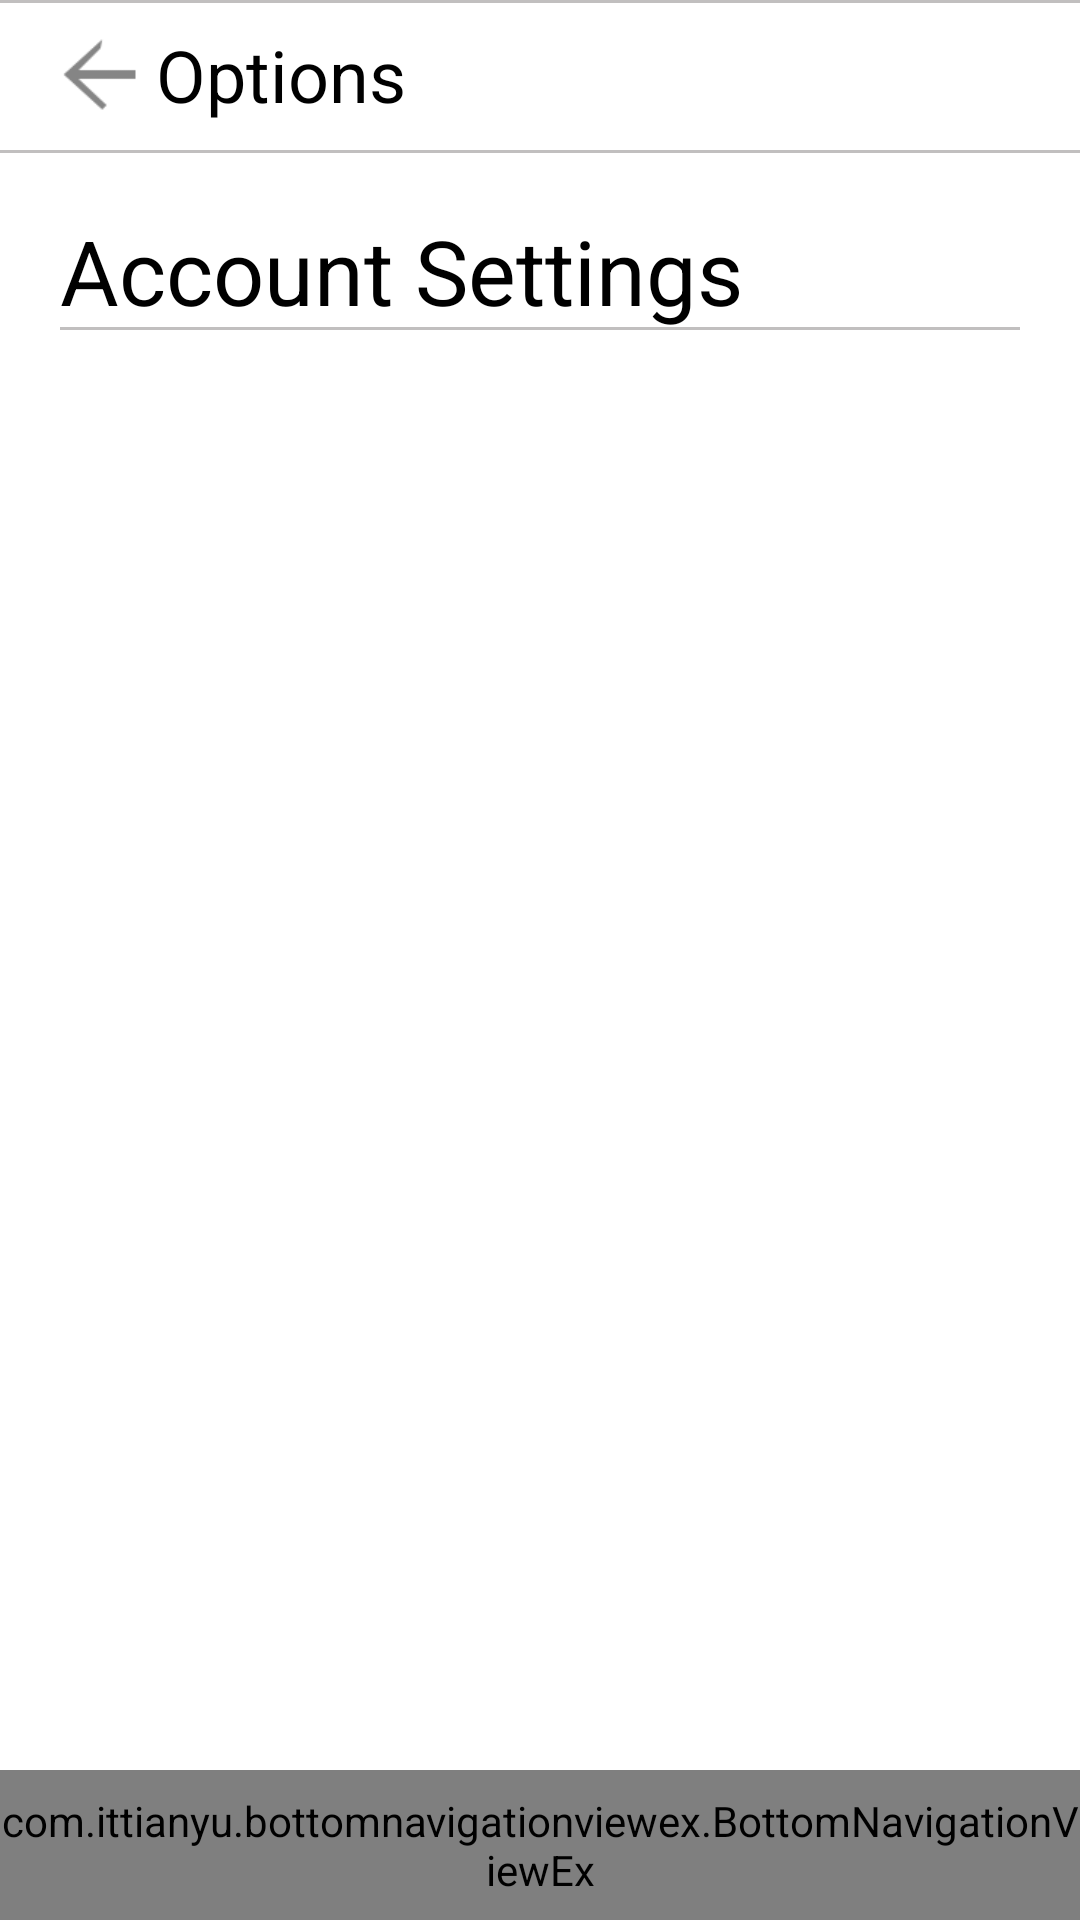

Named icons in this screenshot (1080×1920) and their centers, [x,y]:
back: [100,75]
